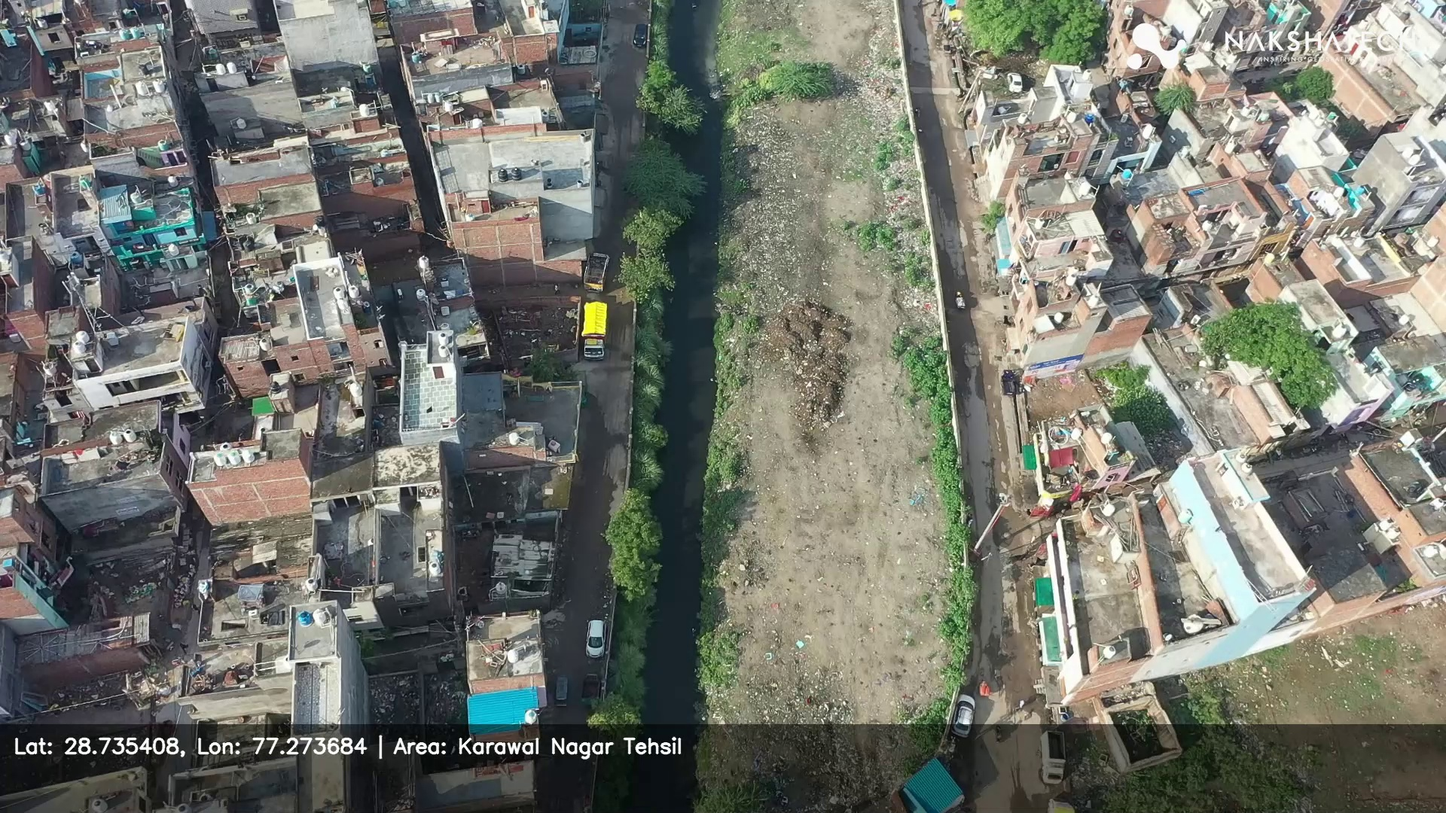Lixo: (693, 67, 763, 123)
